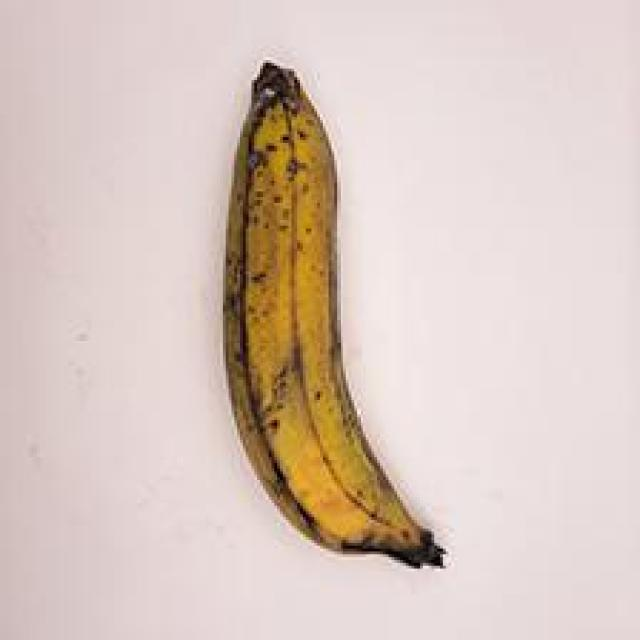Overripe: (161, 42, 478, 588)
